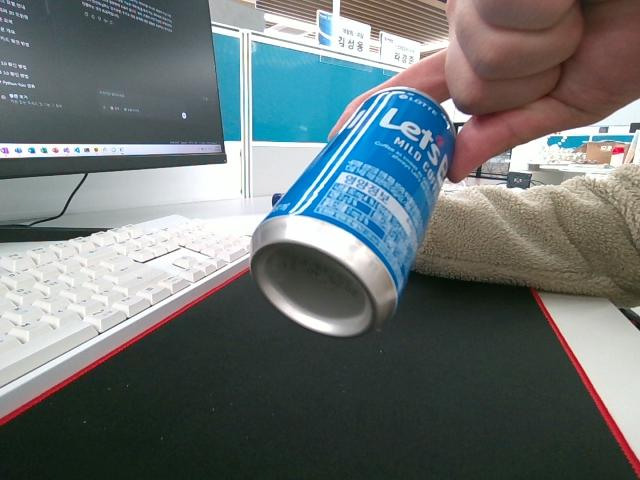letsbe: (249, 85, 456, 338)
